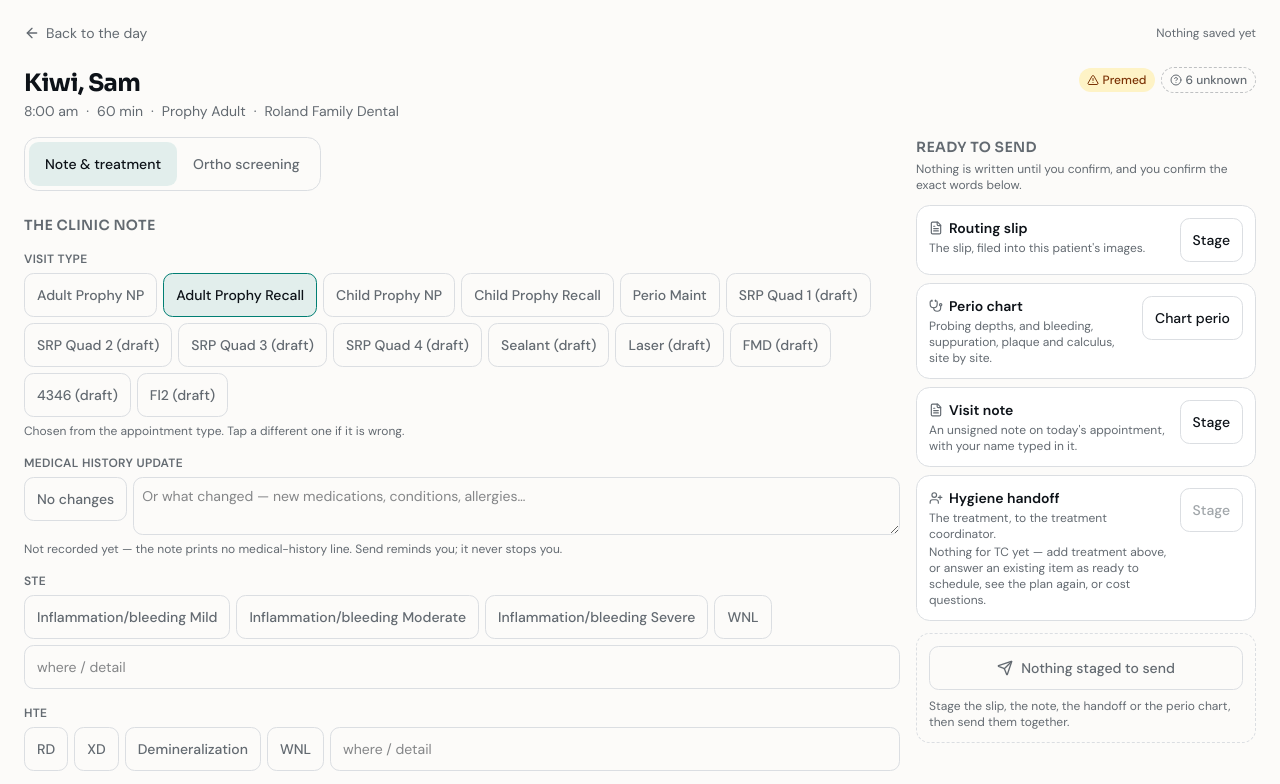
Scenario: what the screen may not claim › never says a note is signed
Click the button with test id "hyg-stage-note": click(1211, 422) [1180, 400, 1243, 444]
(page scrolled)
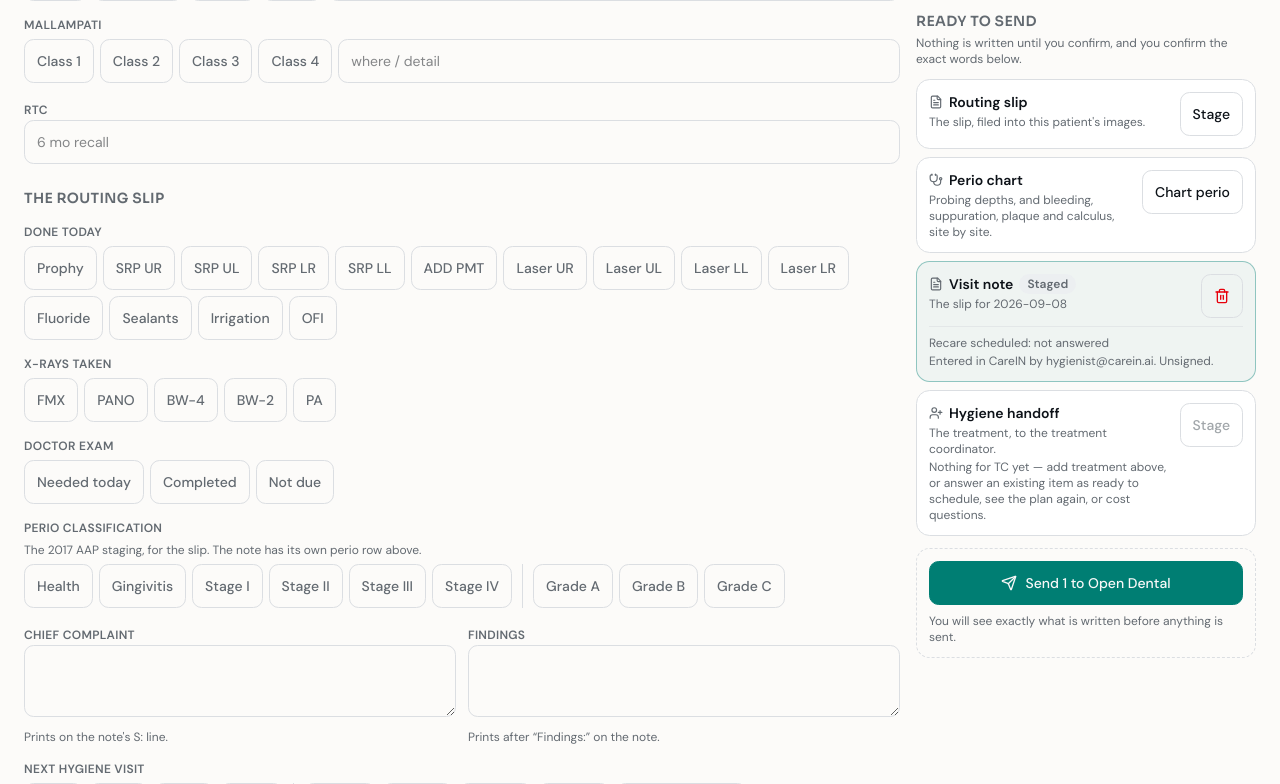
Check: the list with test id "hyg-staged-preview-note" is shown, box [929, 335, 1243, 369]
